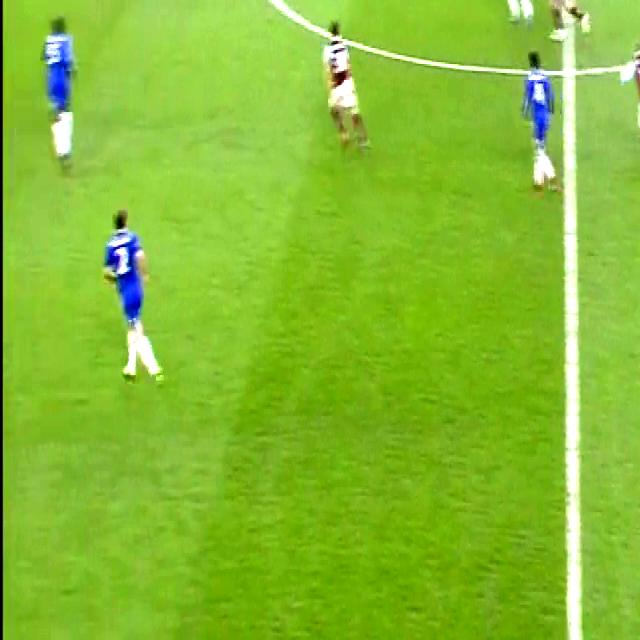soccer-player: (98, 191, 170, 386), (32, 0, 82, 165), (313, 6, 369, 153), (519, 36, 567, 190), (622, 23, 640, 178), (539, 0, 594, 41), (499, 0, 538, 30)
